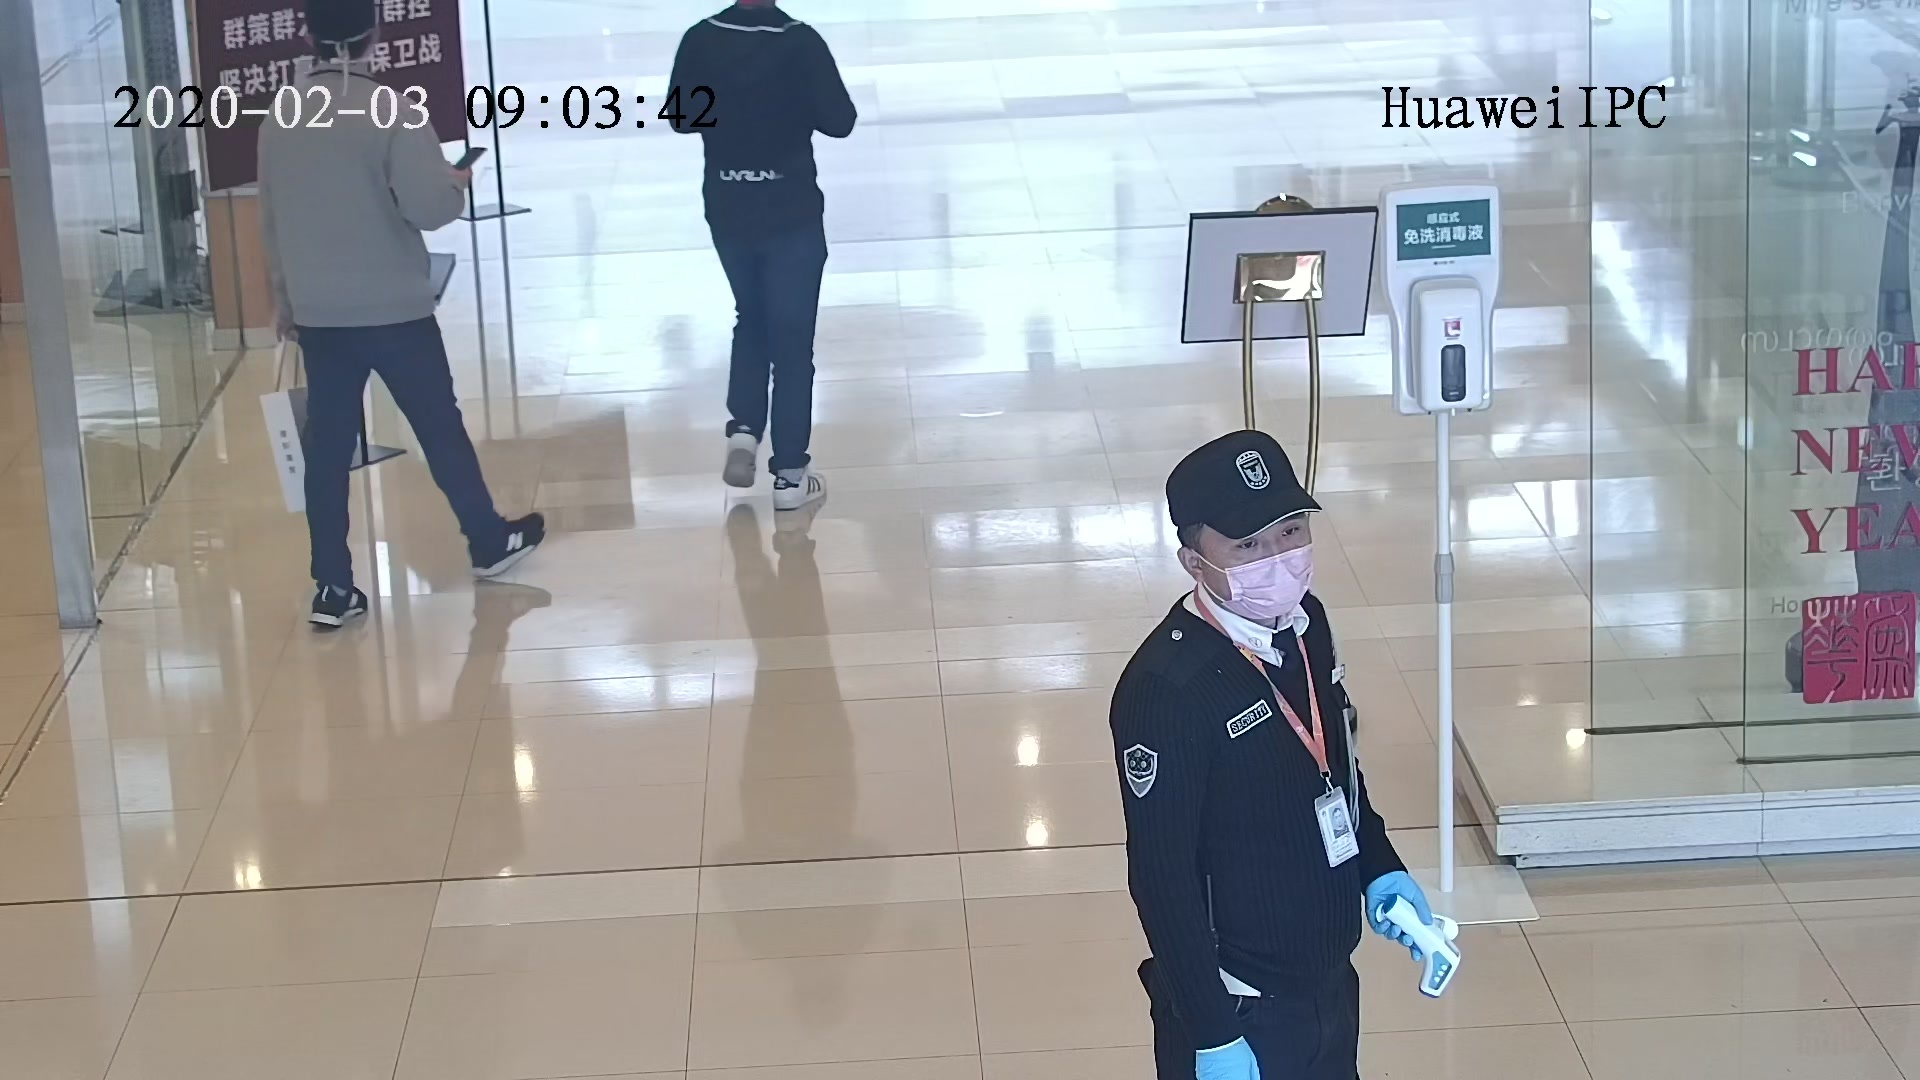face: (1205, 520, 1310, 622)
mask: (1229, 542, 1310, 625)
person: (1103, 427, 1356, 720), (249, 5, 439, 149), (675, 1, 839, 67)
